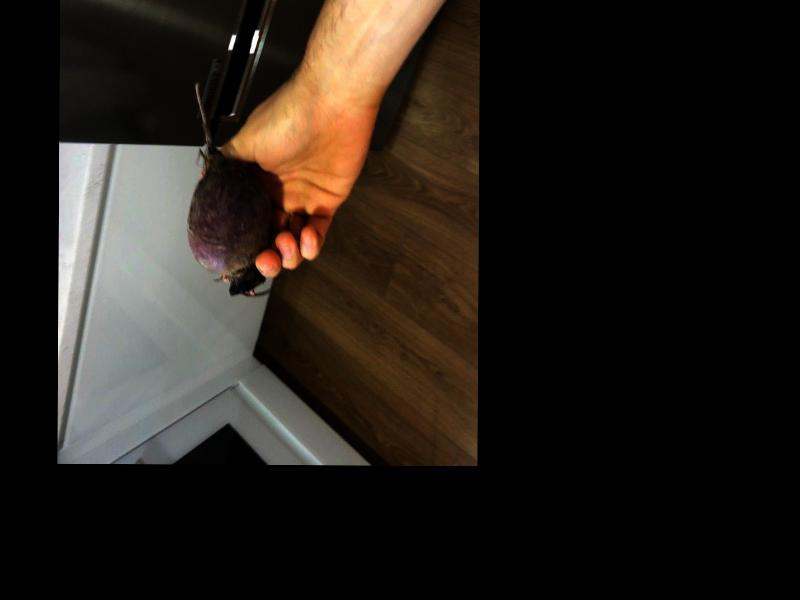Beet: (187, 83, 273, 298)
